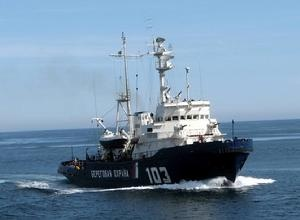otherboat: (55, 36, 254, 189)
